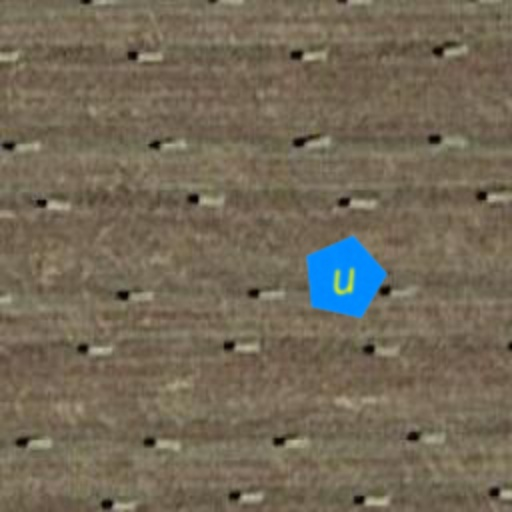pentagon: (296, 230, 392, 326)
